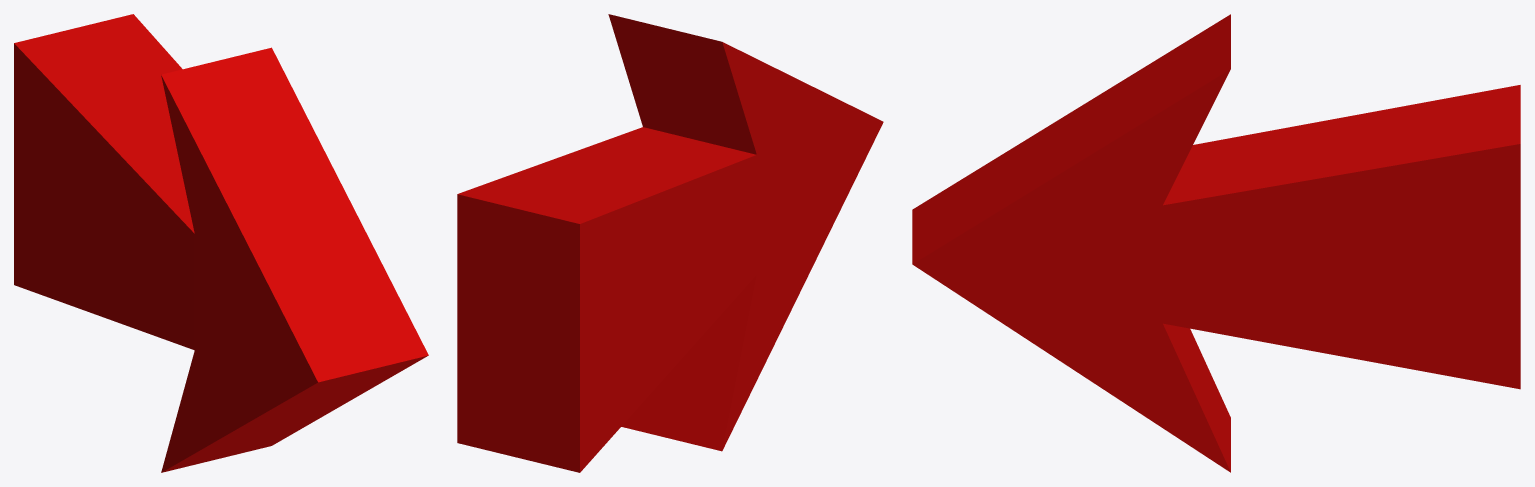
Rendered from arrow.fbx.
The picture shows the model from 3 angles, left to right: view 1: azimuth 30°, elevation 25°; view 2: azimuth 150°, elevation 25°; view 3: azimuth 270°, elevation 25°; orthographic projection. The views are drawn at different scales.
Parts seen in each view (by area): view 1: Cube; view 2: Cube; view 3: Cube.
Boxes of the visible parts, x1,y1,x2,y2 form: Cube: (14,14,428,472); Cube: (457,14,883,472); Cube: (912,14,1520,472).
Size of the model in its own units: 146 by 466 by 635.
